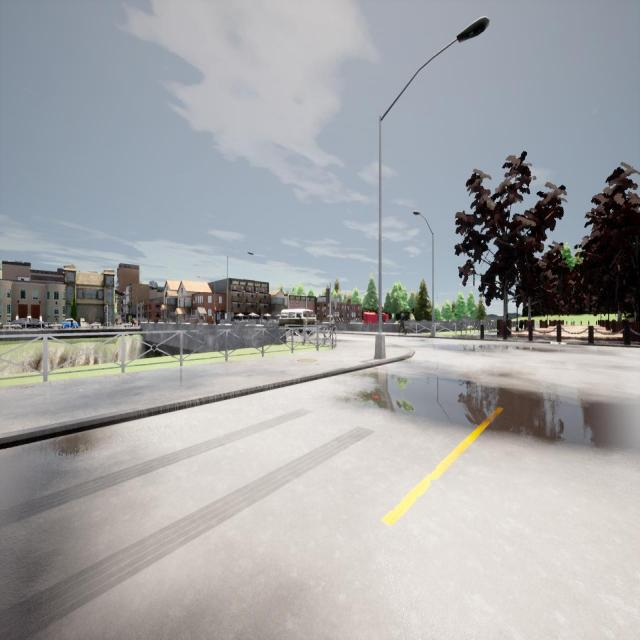Pedestrian: (397, 310, 408, 334)
Vehicle: (278, 309, 316, 326), (12, 318, 44, 329), (61, 319, 78, 329)
traffic_light: (326, 288, 330, 304), (104, 306, 107, 312), (214, 307, 216, 313)
